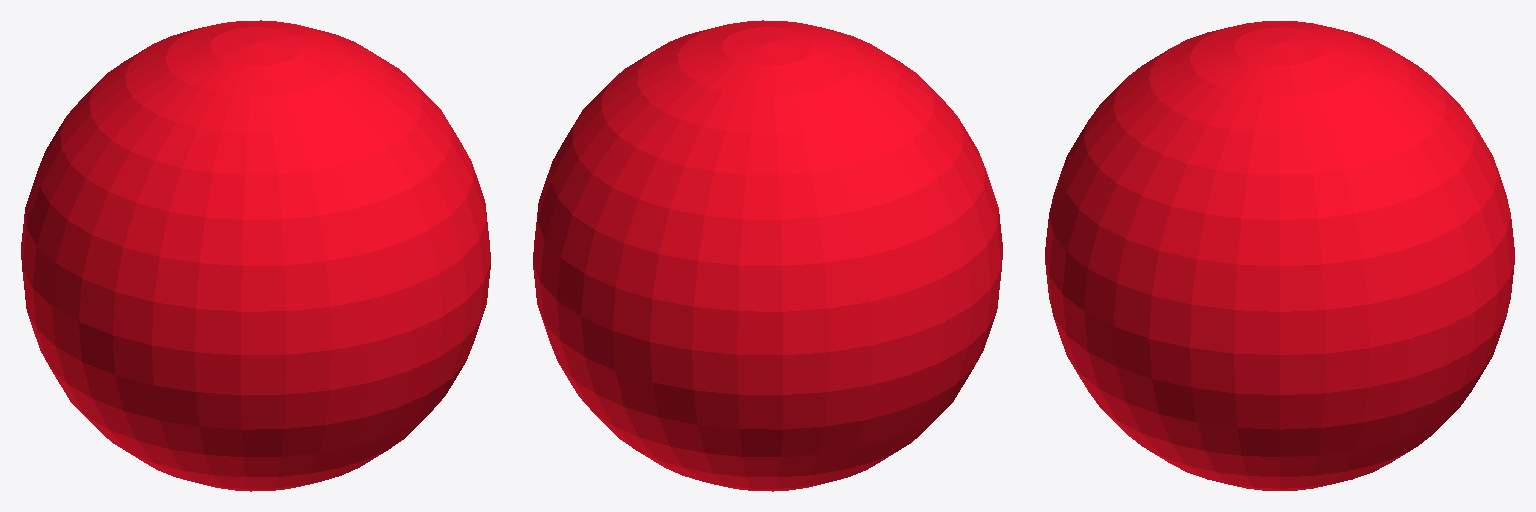
robot.urdf — ball:
<?xml version="0.0" ?>
<robot name="ball">
<link name="base">
  <contact>
    <restitution value=".9" />
    <rolling_friction value="1000."/>
    <spinning_friction value="1000."/>
  </contact>
  <inertial>
    <origin rpy="0 0 0" xyz="0 0 0"/>
     <mass value=".001"/>
     <inertia ixx="1." ixy="0" ixz="0" iyy="1." iyz="0" izz="1."/>
  </inertial>
  <visual>
    <origin rpy="0 0 0" xyz="0 0 0"/>
    <geometry>
      <sphere radius="0.05"/>
    </geometry>
    <material name="red">
      <color rgba="1 .1 .2 1"/>
    </material>
  </visual>
  <collision>
    <origin rpy="0 0 0" xyz="0 0 0"/>
    <geometry>s
      <sphere radius="0.001"/>
    </geometry>
  </collision>
</link>
</robot>

--- Facts derived from the render (not from the file) ---
3 views of the same robot in one strip: view 1: azimuth 30°, elevation 25°; view 2: azimuth 150°, elevation 25°; view 3: azimuth 270°, elevation 25° (orthographic).
Model ball with 1 links and 0 joints (none), rooted at base, posed all joints at 0.
Visible links, largest first — view 1: base; view 2: base; view 3: base.
Link boxes in pixels (x1,y1,x2,y2): base: (21,20,490,491); base: (533,20,1002,491); base: (1045,21,1514,490).
Size in the robot's own frame: 0.1 by 0.1 by 0.1 metres.
Geometry: primitives only (box / cylinder / sphere), no mesh files.